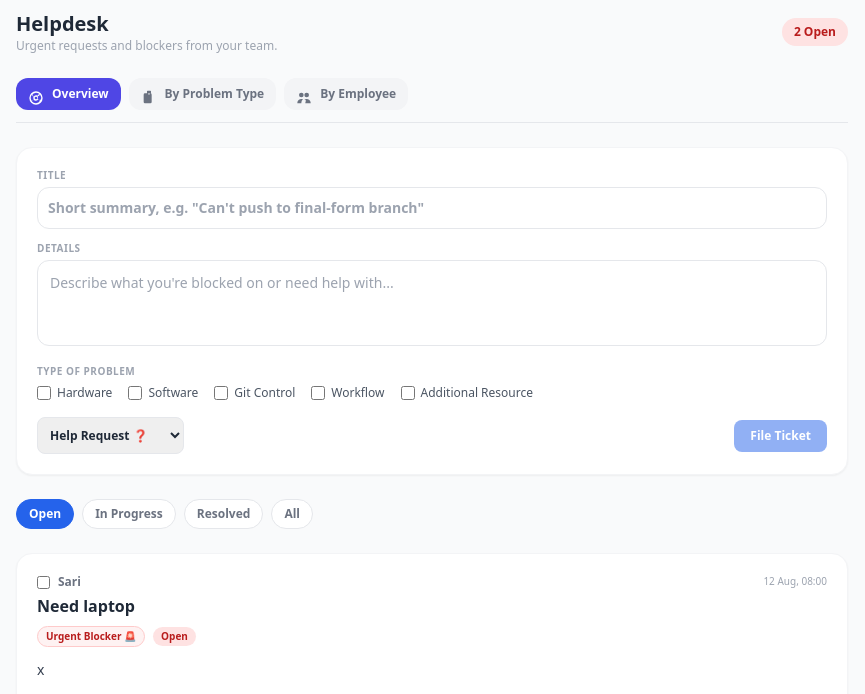
Test: HelpdeskView › the By Problem Type tab aggregates problem tags across all tickets
Click the tab "By Problem Type" at [202, 94], box [128,78,276,110]
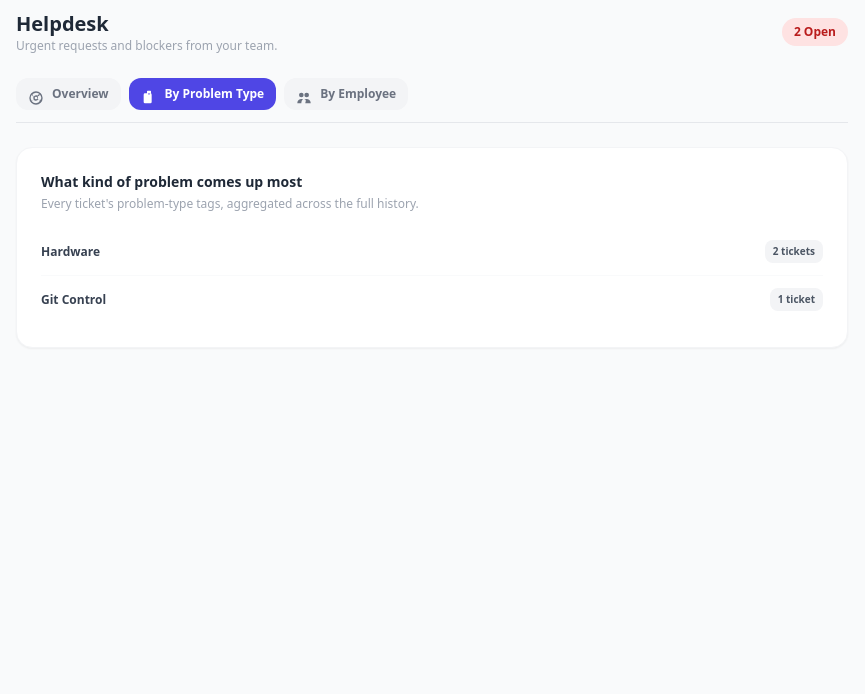
Check: the text "2 tickets" is shown, box [765,240,823,263]
Check: the text "1 ticket" is shown, box [770,288,823,311]
